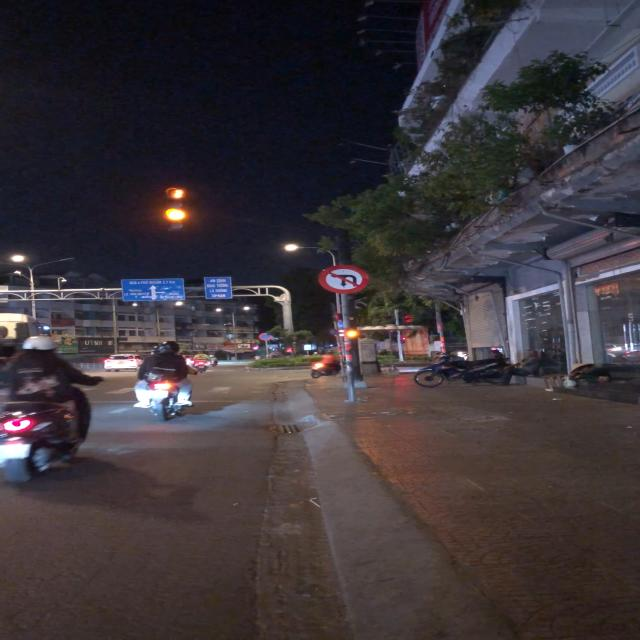Bien bao cam re trai va quay dau: (318, 264, 370, 295)
